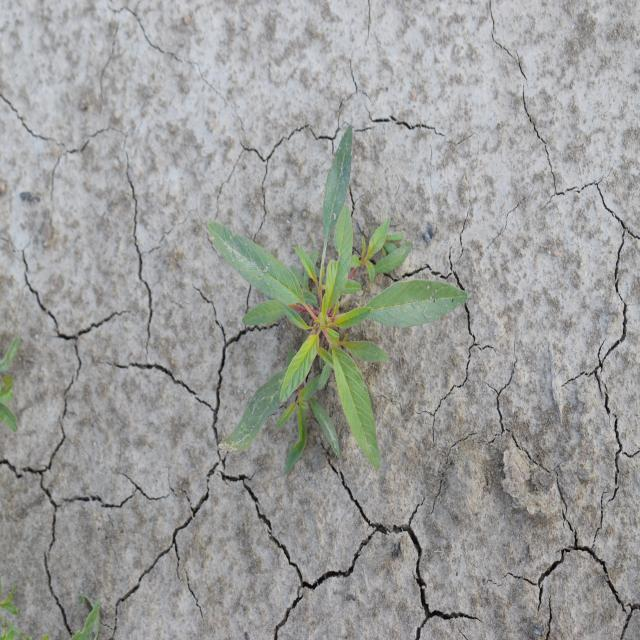Waterhemp: (206, 122, 470, 479)
